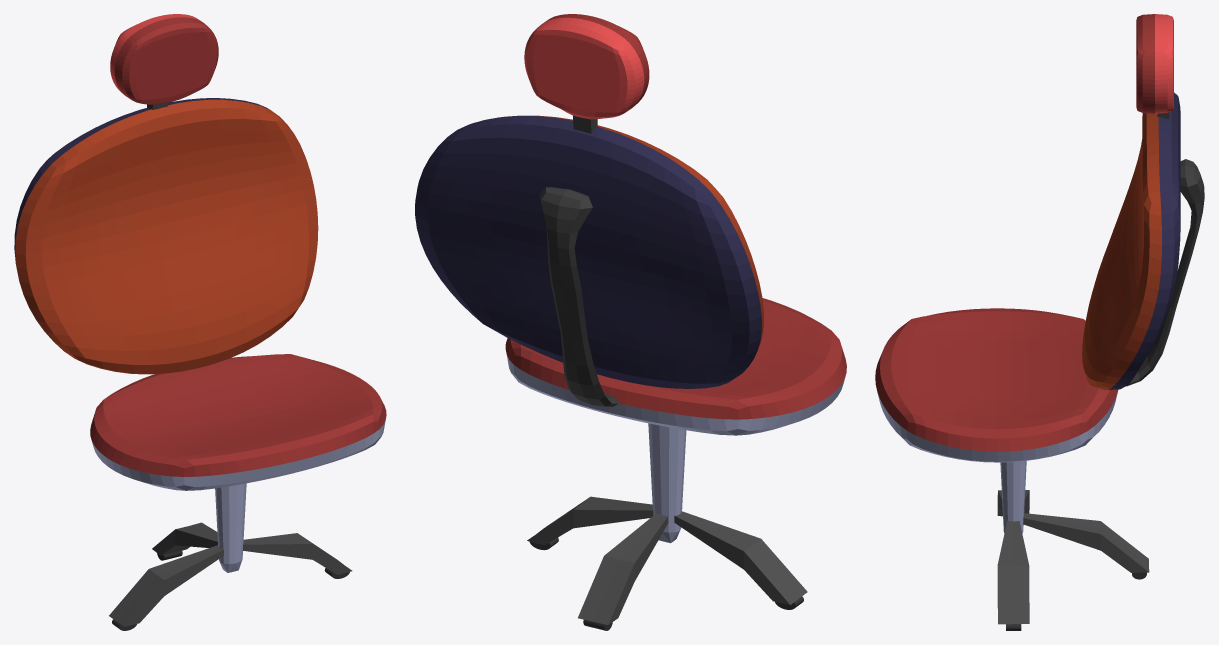
Rendered from Res01_Manager_Chair.fbx.
3 renders of one model, left to right at view 1: azimuth 30°, elevation 25°; view 2: azimuth 150°, elevation 25°; view 3: azimuth 270°, elevation 25°, orthographic. The views are drawn at different scales.
Parts seen in each view (by area): view 1: Res01_Manager_Chair; view 2: Res01_Manager_Chair; view 3: Res01_Manager_Chair.
Part boxes in pixels (left/top/right/bottom): Res01_Manager_Chair: left=14, top=14, right=386, bottom=630; Res01_Manager_Chair: left=415, top=14, right=846, bottom=630; Res01_Manager_Chair: left=875, top=14, right=1204, bottom=630.
Size of the model in its own units: 96.86 by 165 by 89.24.
